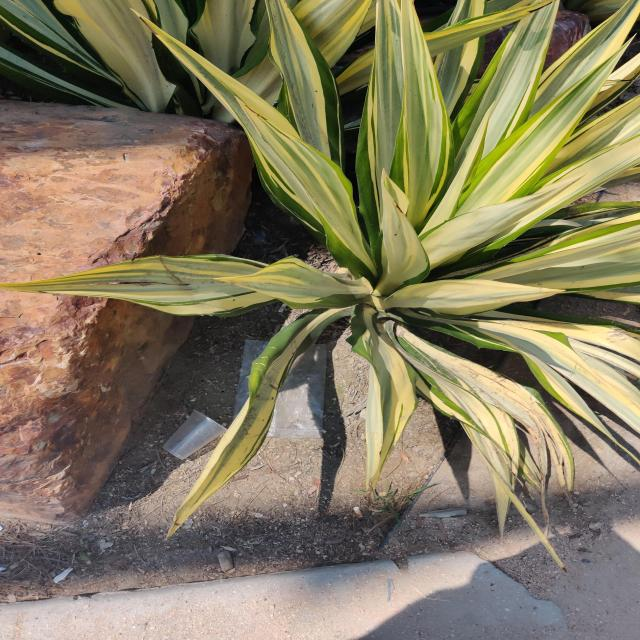litter: (264, 341, 331, 437), (229, 338, 271, 421), (161, 410, 227, 460)
